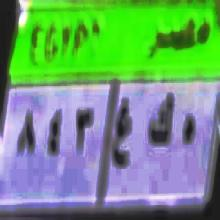3: (74, 97, 98, 158)
4: (44, 103, 67, 164)
8: (16, 107, 39, 164)
ghayn: (111, 85, 136, 176)
haa: (178, 95, 202, 159)
kaaf: (144, 89, 174, 156)
